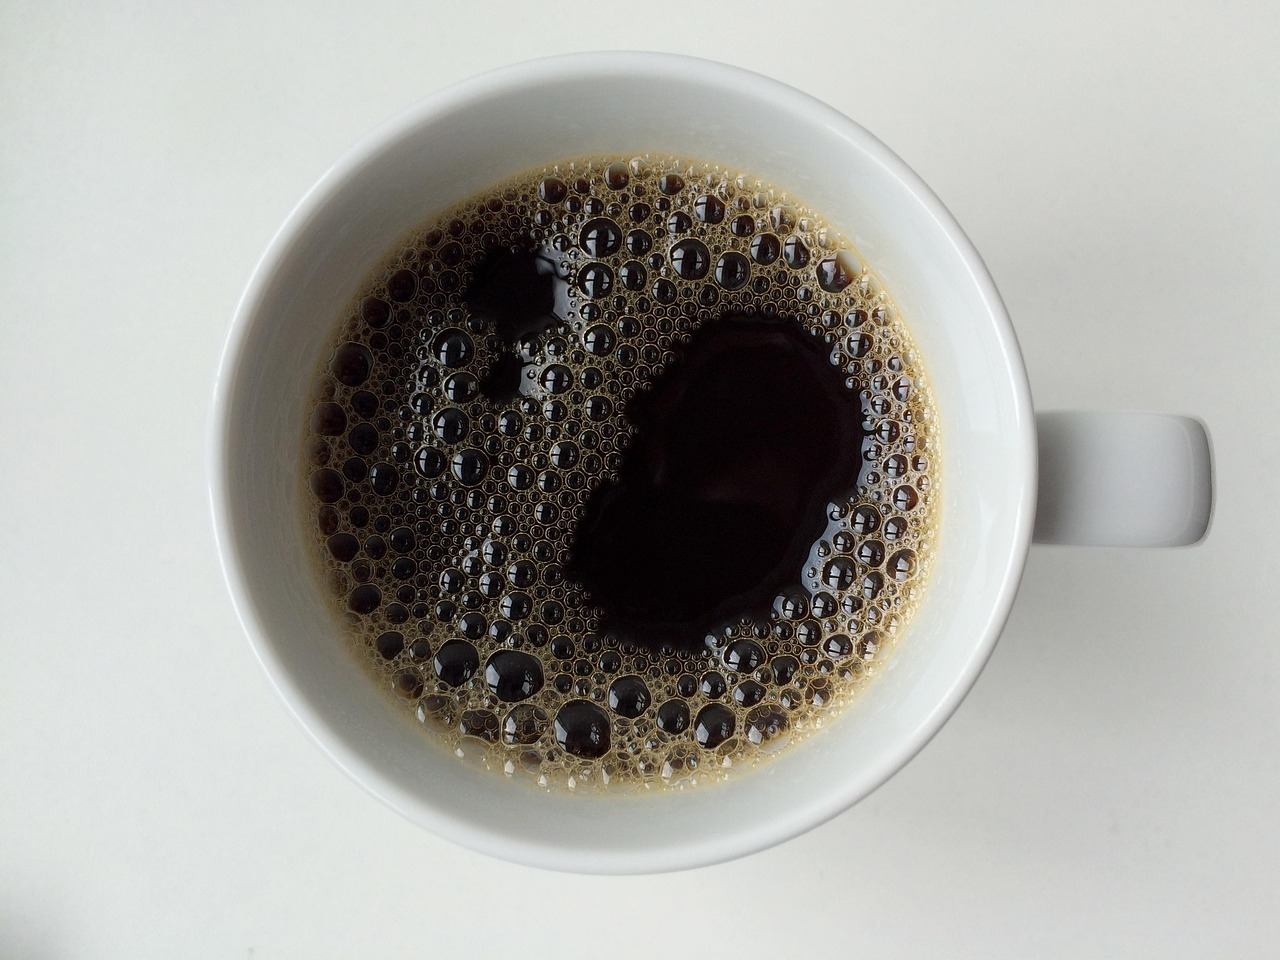mug: (140, 43, 1214, 888)
